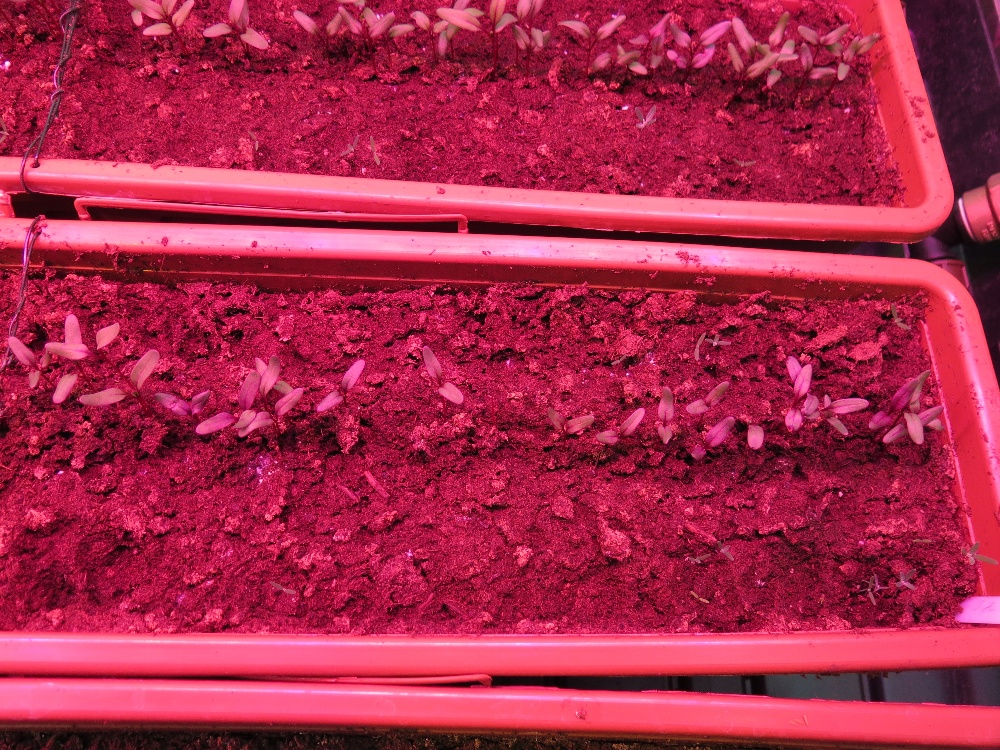crop: (776, 353, 871, 444), (80, 326, 161, 422), (435, 1, 556, 65), (228, 355, 306, 452), (766, 8, 848, 100), (864, 368, 946, 451), (43, 313, 107, 416), (662, 1, 730, 96), (717, 8, 799, 85), (554, 1, 628, 84), (817, 4, 883, 90), (149, 385, 240, 442), (343, 1, 413, 58), (408, 1, 465, 71), (413, 343, 465, 417), (313, 354, 365, 425), (201, 1, 279, 48), (129, 1, 200, 51), (631, 6, 675, 85), (292, 1, 352, 50), (582, 45, 648, 89), (7, 333, 57, 391), (688, 413, 738, 467), (542, 402, 596, 449), (590, 407, 643, 452), (684, 369, 729, 421), (648, 384, 680, 449), (743, 415, 766, 460)
weed: (956, 539, 998, 572), (855, 572, 890, 610), (629, 103, 660, 139), (886, 304, 914, 335), (338, 130, 362, 161), (267, 579, 302, 600), (897, 568, 921, 595), (367, 134, 385, 169), (702, 331, 731, 352), (711, 538, 734, 564), (688, 329, 706, 360), (244, 129, 265, 153), (685, 550, 711, 569), (689, 589, 710, 608), (733, 153, 757, 169), (912, 534, 935, 550)
